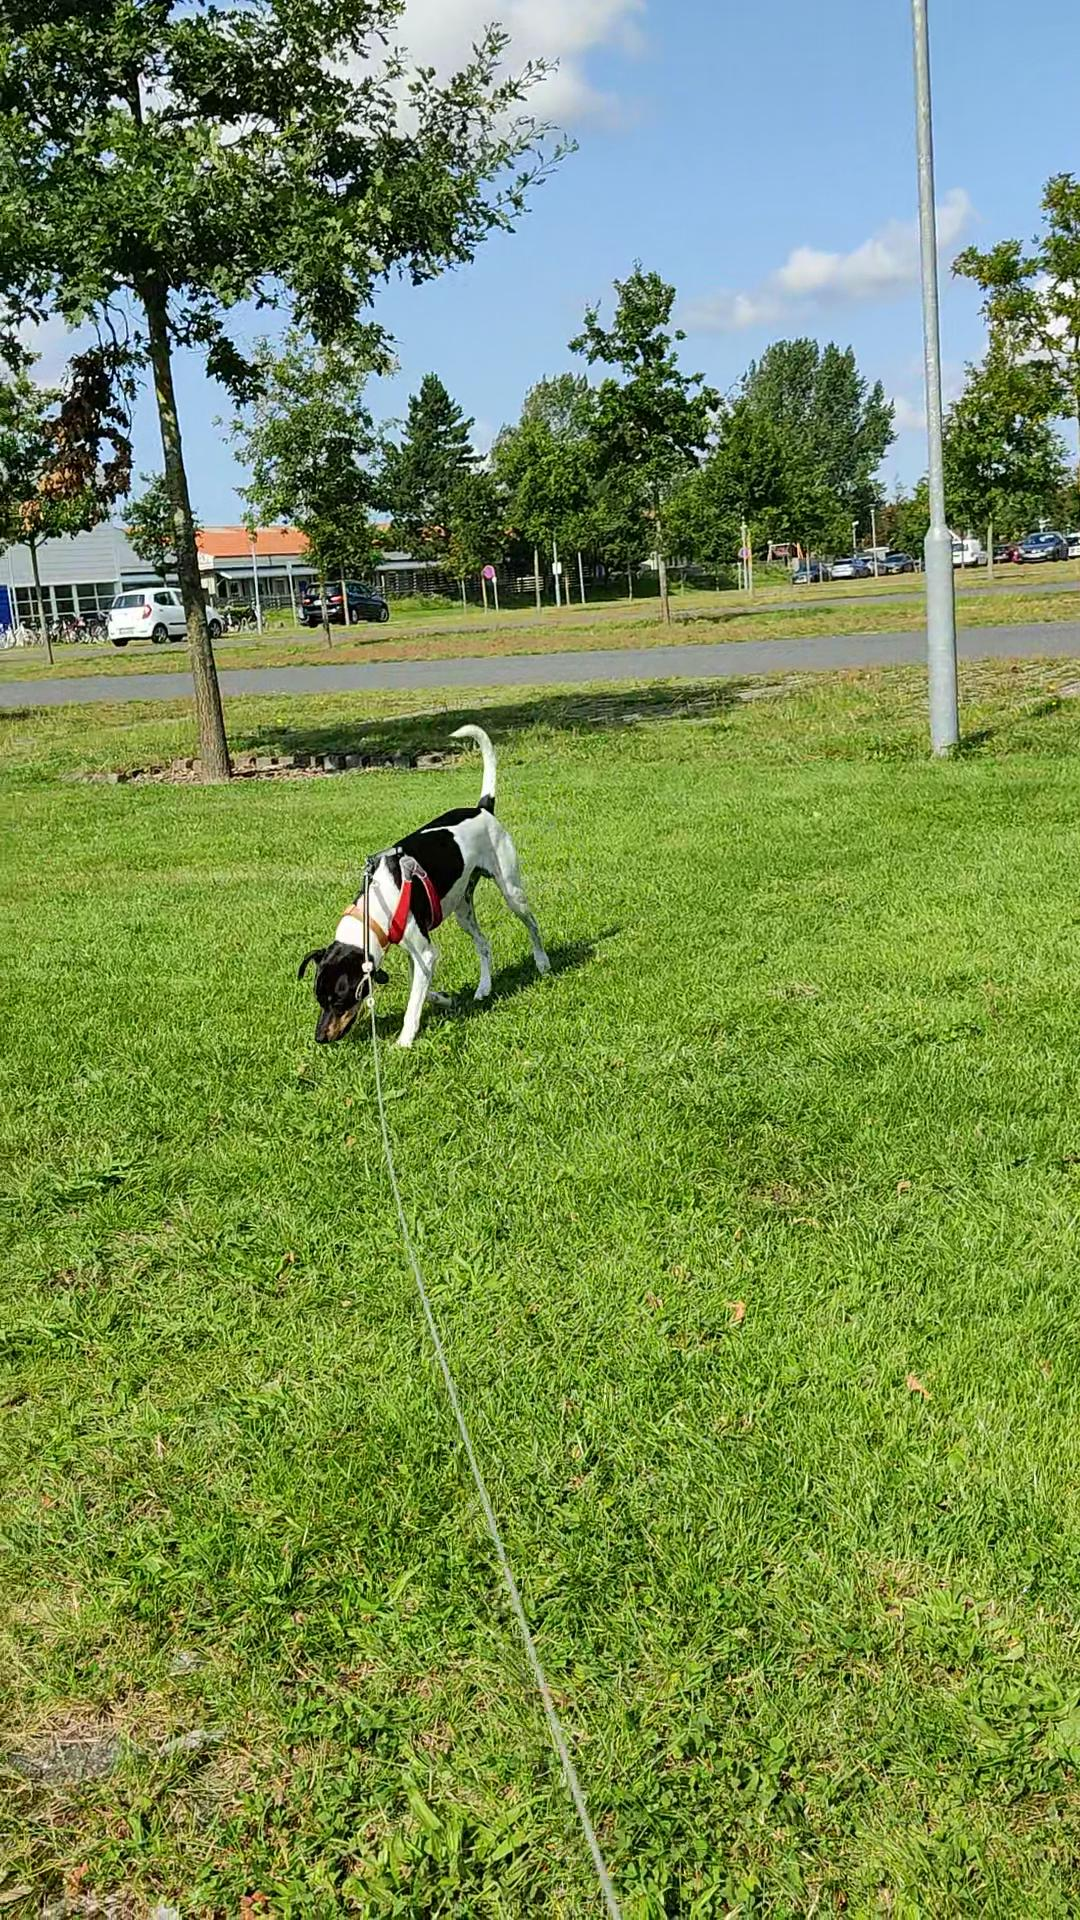Dog: (286, 713, 556, 1051)
